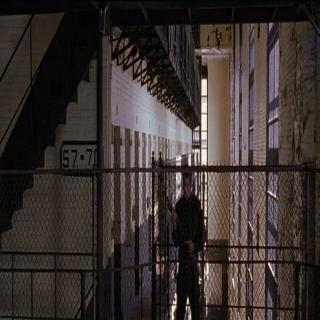gun: (162, 187, 200, 280)
